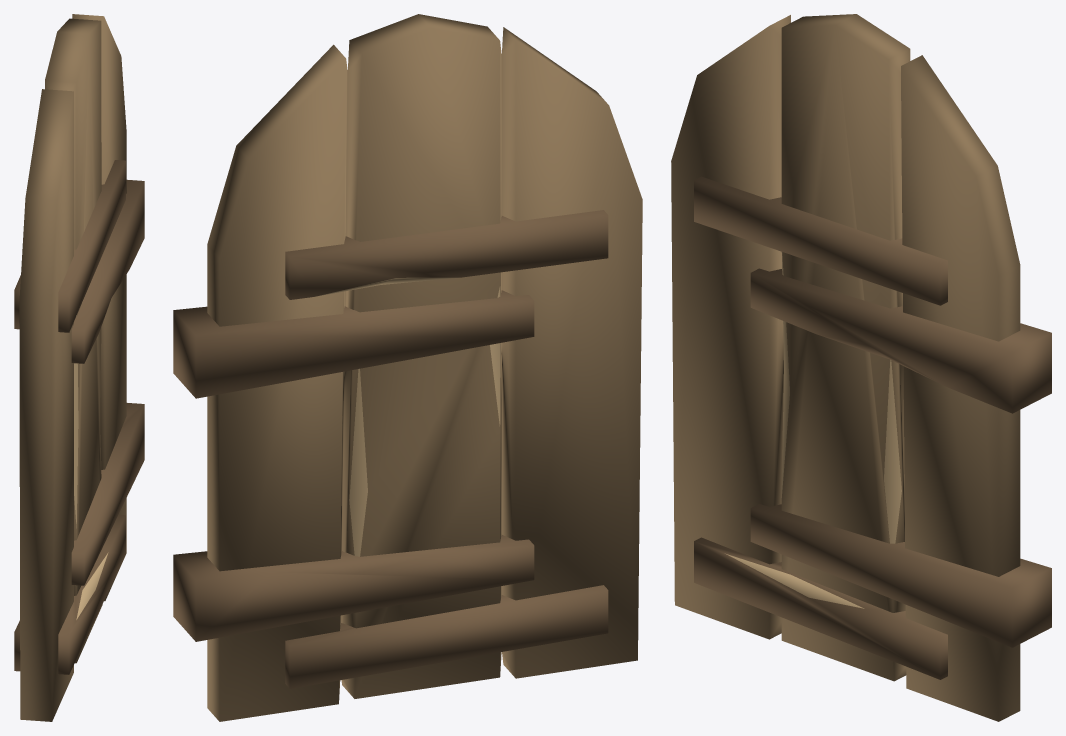
File: rpgpp_ag_window_07_shutter_a.fbx
The picture shows the model from 3 angles, left to right: view 1: azimuth 30°, elevation 25°; view 2: azimuth 150°, elevation 25°; view 3: azimuth 270°, elevation 25°; orthographic projection. The views are drawn at different scales.
Visible parts, largest first — view 1: rpgpp_ag_window_07_shutter_a; view 2: rpgpp_ag_window_07_shutter_a; view 3: rpgpp_ag_window_07_shutter_a.
Boxes of the visible parts, x1,y1,x2,y2 form: rpgpp_ag_window_07_shutter_a: (14, 14, 144, 721); rpgpp_ag_window_07_shutter_a: (173, 14, 642, 721); rpgpp_ag_window_07_shutter_a: (671, 14, 1051, 721).
Bounding box in the file's own units: 0.6121 × 1.28 × 0.6914.
